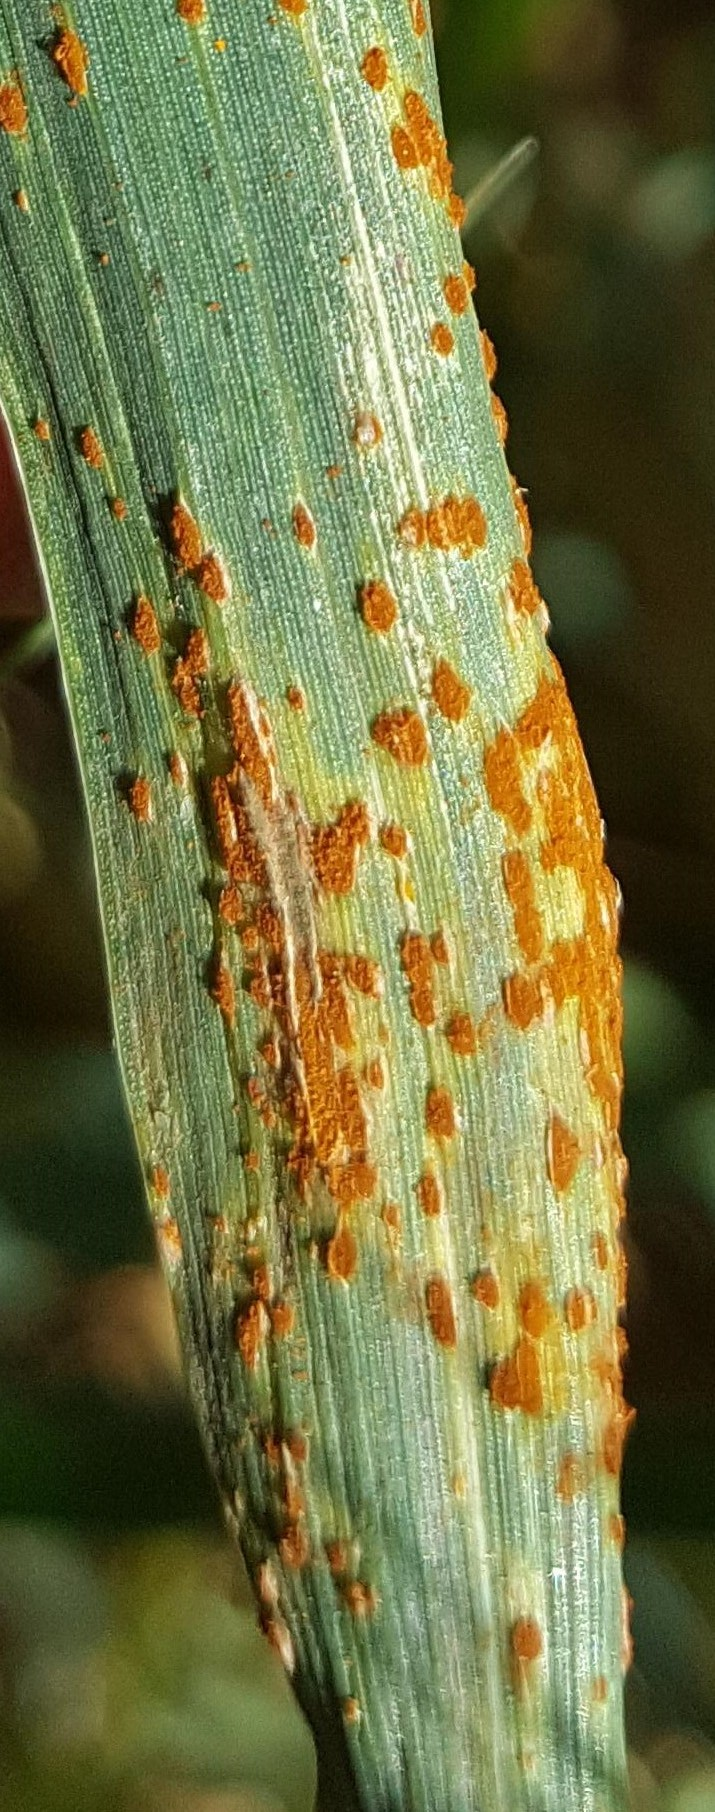Leaf Rust: (52, 300, 631, 1649)
